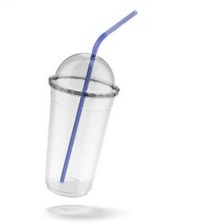drinking_straw: (55, 5, 143, 188)
glass: (35, 48, 128, 202)
